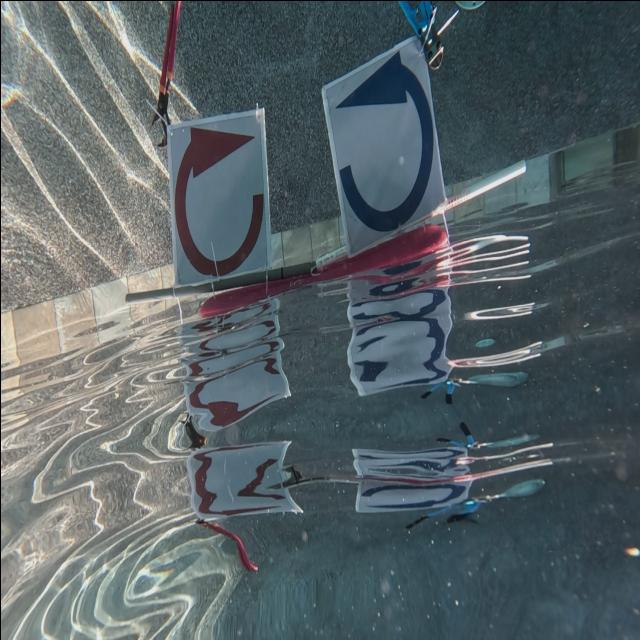blue_side: (329, 51, 435, 230)
red_side: (175, 120, 268, 283)
